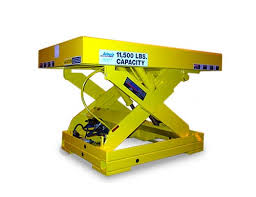Scissor Lift: (37, 35, 223, 177)
